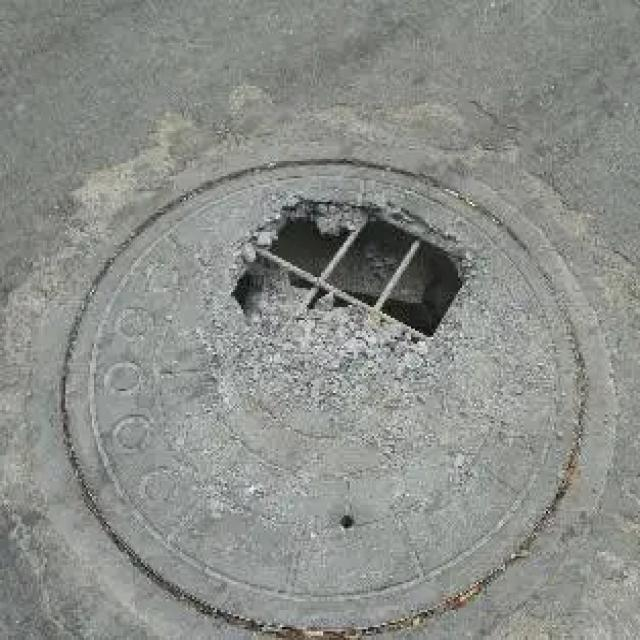manhole: (65, 165, 581, 628)
